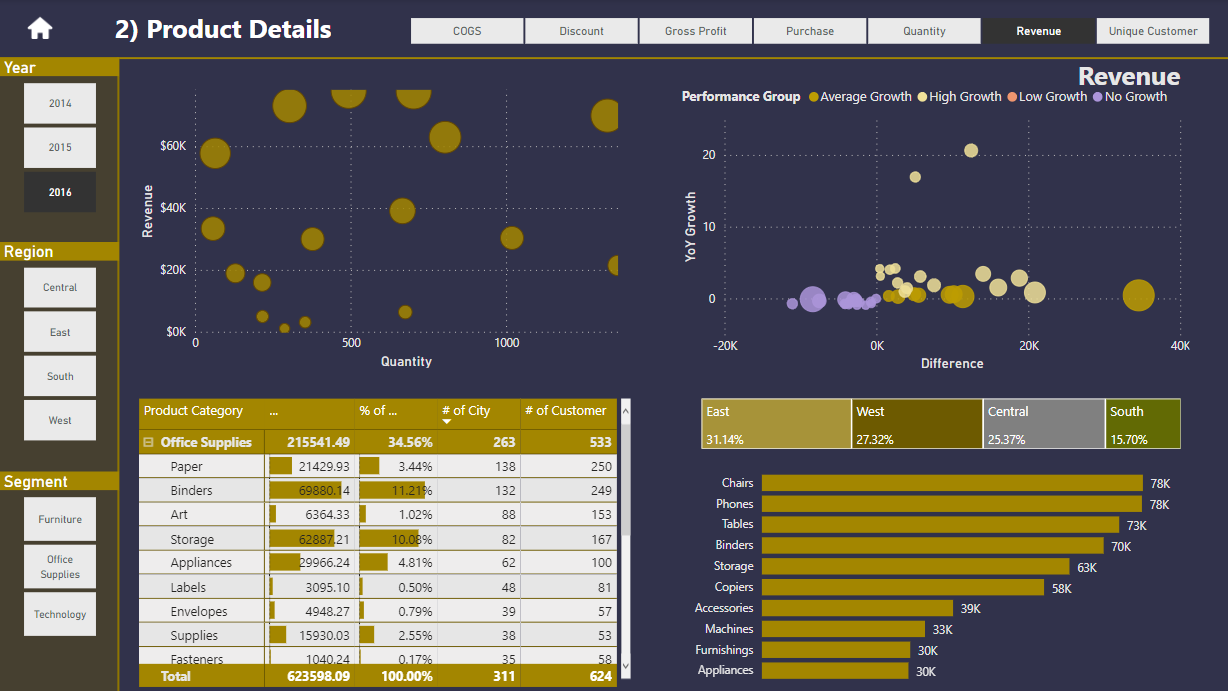

The page's visual inventory and layout, read from the dashboard file:
{"tool":"powerbi","page":{"name":"2) Product Details","canvas":[1280,720],"ordinal":1},"visuals":[{"type":"shape","title":"Background Shape","box":[0,0,1280,720.1],"z":0},{"type":"shape","title":"Rectangle Slicer BG","box":[0,61.3,125.2,657.9],"z":0,"group":"g1"},{"type":"slicer","title":"Metrics","fields":{"Values":["Switch.Metrics"]},"box":[401.3,12.4,878.9,40.8],"z":1000},{"type":"slicer","title":"Region","fields":{"Values":["Dimension Table_Location.Region"]},"box":[0,252.5,124.8,213.2],"z":1000,"group":"g1"},{"type":"slicer","title":"Year","fields":{"Values":["Calendar Table.Date.Variation.Date Hierarchy.Year"]},"box":[0,60.9,124.8,168],"z":2000,"group":"g1"},{"type":"shape","box":[0,52.4,1280.2,16.9],"z":2000},{"type":"shape","box":[119.9,61.3,8,658.7],"z":3000},{"type":"slicer","title":"Segment","fields":{"Values":["Dimension Table_Product.Product Category"]},"box":[0,490.2,124.8,177.8],"z":3000,"group":"g1"},{"type":"textbox","box":[115.4,6.2,248.6,55],"z":4000},{"type":"card","fields":{"Values":["Min(Switch.Metrics)"]},"box":[1064.9,60.9,215.1,37.3],"z":5000},{"type":"group","id":"g1","title":"Slicer Pane","box":[0,60.9,125.2,658.2],"z":9000},{"type":"scatterChart","fields":{"Category":["Dimension Table_Location.State","Dimension Table_Location.City","Dimension Table_Customer.Customer Name"],"X":["Visualization Measures.Switch Metirc Difference"],"Series":["Growth Performance.Performance Group"],"Size":["Visualization Measures.Switch Metrics"],"Y":["Core Measures.State Metric Growth"]},"box":[704,81.7,537.1,309.8],"z":10000},{"type":"scatterChart","fields":{"X":["Core Measures.Total Quantity"],"Y":["Core Measures.Total Revenue After Discount"],"Category":["Dimension Table_Product.Product Sub-Category"],"Size":["Visualization Measures.Switch Metrics"]},"box":[139.4,81.7,520.2,307.2],"z":11000},{"type":"pivotTable","fields":{"Values":["Visualization Measures.Switch Metrics","Divide(Visualization Measures.Switch Metrics, ScopedEval(Visualization Measures.Switch Metrics, []))","Count(Dimension Table_Location.City)","Count(Dimension Table_Customer.Customer Name)"],"Rows":["Dimension Table_Product.Product Category","Dimension Table_Product.Product Sub-Category"]},"box":[139.4,410.2,520.2,309.8],"z":12000},{"type":"treemap","fields":{"Group":["Dimension Table_Location.Region"],"Values":["Visualization Measures.Switch Metrics"]},"box":[723.6,410.2,507.8,62.1],"z":13000},{"type":"image","box":[18.6,9.8,47.9,40.8],"z":14000},{"type":"clusteredBarChart","fields":{"Category":["Dimension Table_Product.Product Sub-Category"],"Y":["Visualization Measures.Switch Metrics"]},"box":[712,472.5,521.1,247.6],"z":15000}]}

Visuals, with their boxes in screenshot pixels (x1, y1, x2, y2), scaled from the page's 1280x720 canvas onto the 1228x691 screenshot:
"Background Shape" shape: left=0, top=0, right=1227, bottom=690
"Rectangle Slicer BG" shape: left=0, top=59, right=120, bottom=690
"Metrics" slicer: left=385, top=12, right=1227, bottom=51
"Region" slicer: left=0, top=242, right=120, bottom=447
"Year" slicer: left=0, top=58, right=120, bottom=220
shape: left=0, top=50, right=1227, bottom=67
shape: left=115, top=59, right=123, bottom=690
"Segment" slicer: left=0, top=470, right=120, bottom=641
textbox: left=111, top=6, right=349, bottom=59
card - Min(Switch.Metrics): left=1022, top=58, right=1227, bottom=94
"Slicer Pane" group: left=0, top=58, right=120, bottom=690
scatterChart - Dimension Table_Location.State x Dimension Table_Location.City: left=675, top=78, right=1191, bottom=376
scatterChart - Core Measures.Total Quantity x Core Measures.Total Revenue After Discount: left=134, top=78, right=633, bottom=373
pivotTable - Visualization Measures.Switch Metrics x Divide(Visualization Measures.Switch Metrics, ScopedEval(Visualization Measures.Switch Metrics, [])): left=134, top=394, right=633, bottom=690
treemap - Dimension Table_Location.Region x Visualization Measures.Switch Metrics: left=694, top=394, right=1181, bottom=453
image: left=18, top=9, right=64, bottom=49
clusteredBarChart - Dimension Table_Product.Product Sub-Category x Visualization Measures.Switch Metrics: left=683, top=453, right=1183, bottom=690
